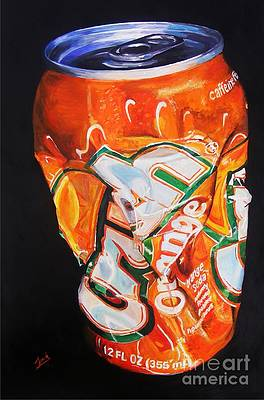can: (32, 20, 252, 376)
